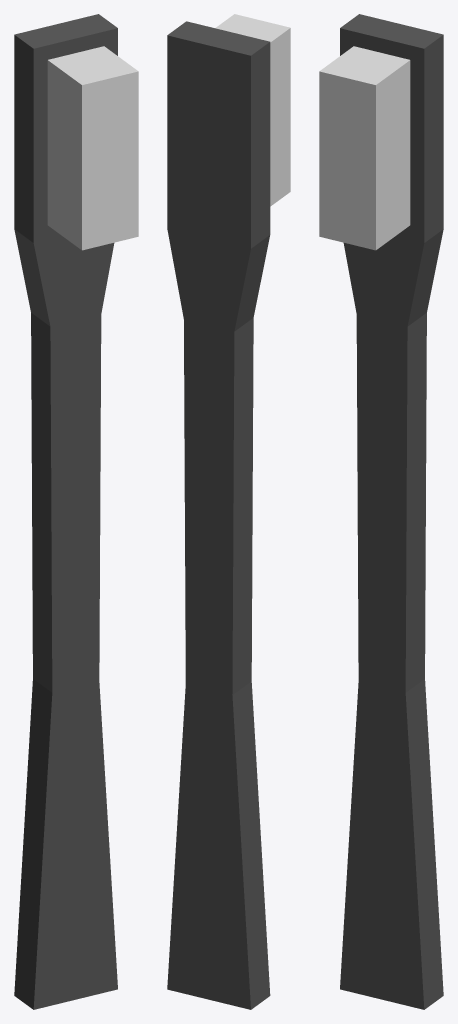
The model's file is Toothbrush_03.fbx.
3 views of the same model, side by side, from view 1: azimuth 30°, elevation 25°; view 2: azimuth 150°, elevation 25°; view 3: azimuth 330°, elevation 25° (orthographic).
Parts seen in each view (by area): view 1: Toothbrush_03; view 2: Toothbrush_03; view 3: Toothbrush_03.
Part boxes in pixels (bbox=[...]): Toothbrush_03: bbox=[14, 14, 138, 1009]; Toothbrush_03: bbox=[167, 14, 290, 1009]; Toothbrush_03: bbox=[319, 14, 443, 1009].
Size of the model in its own units: 1.81 by 19.69 by 2.
